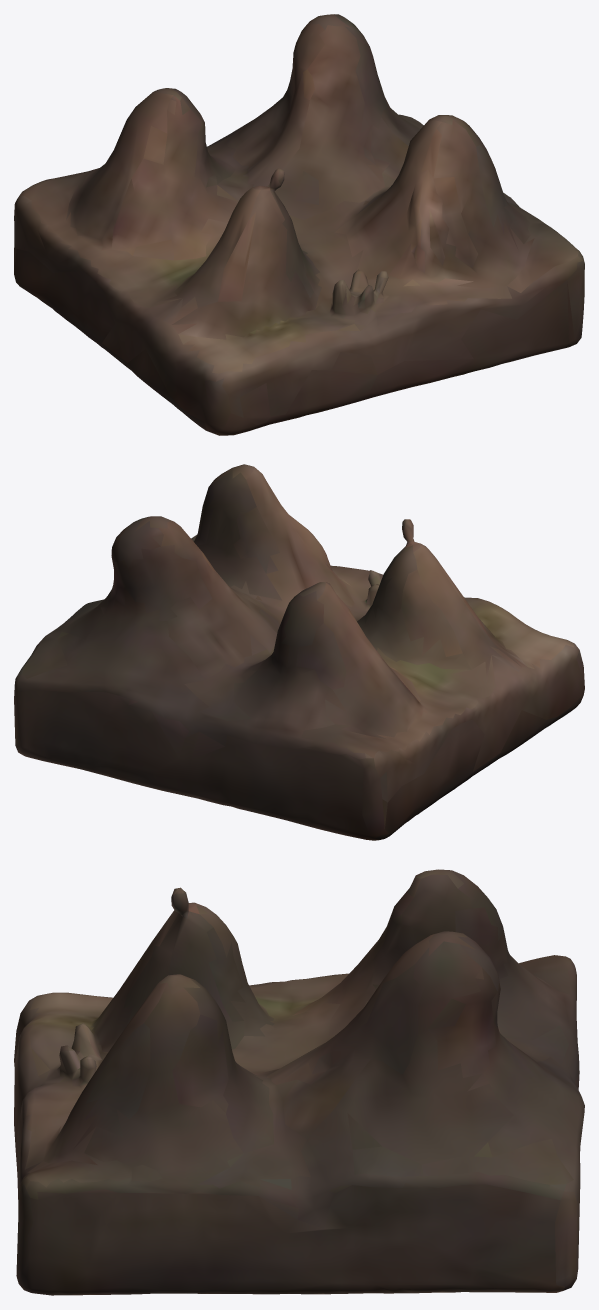
Rendered from m03_lama_cupins.glb.
3 views of the same model, one above another, from view 1: azimuth 30°, elevation 25°; view 2: azimuth 150°, elevation 25°; view 3: azimuth 270°, elevation 25° (orthographic). The views are drawn at different scales.
Visible parts, largest first — view 1: m03_lama_cupins; view 2: m03_lama_cupins; view 3: m03_lama_cupins.
Part boxes in pixels (box(x1,y1,x2,y2)): m03_lama_cupins: box(14, 14, 584, 435); m03_lama_cupins: box(14, 464, 584, 840); m03_lama_cupins: box(14, 869, 584, 1295).
Size of the model in its own units: 0.9635 by 0.5757 by 0.9503.
1 material, 1 textured.
